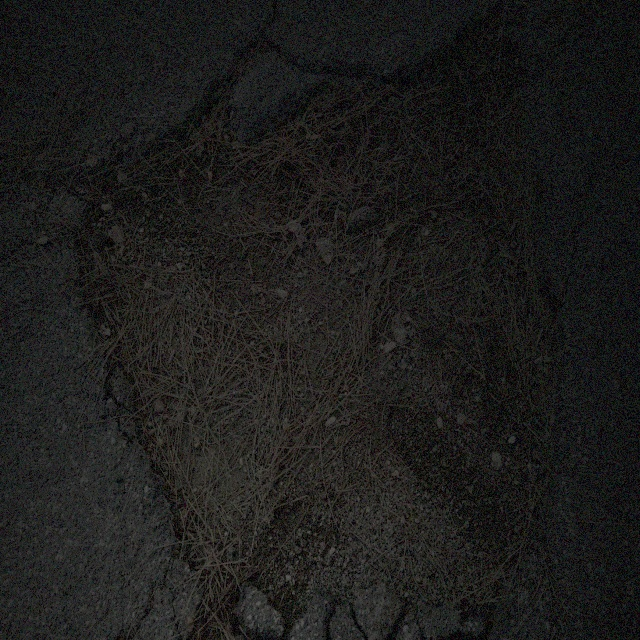pothole: (62, 10, 563, 625)
